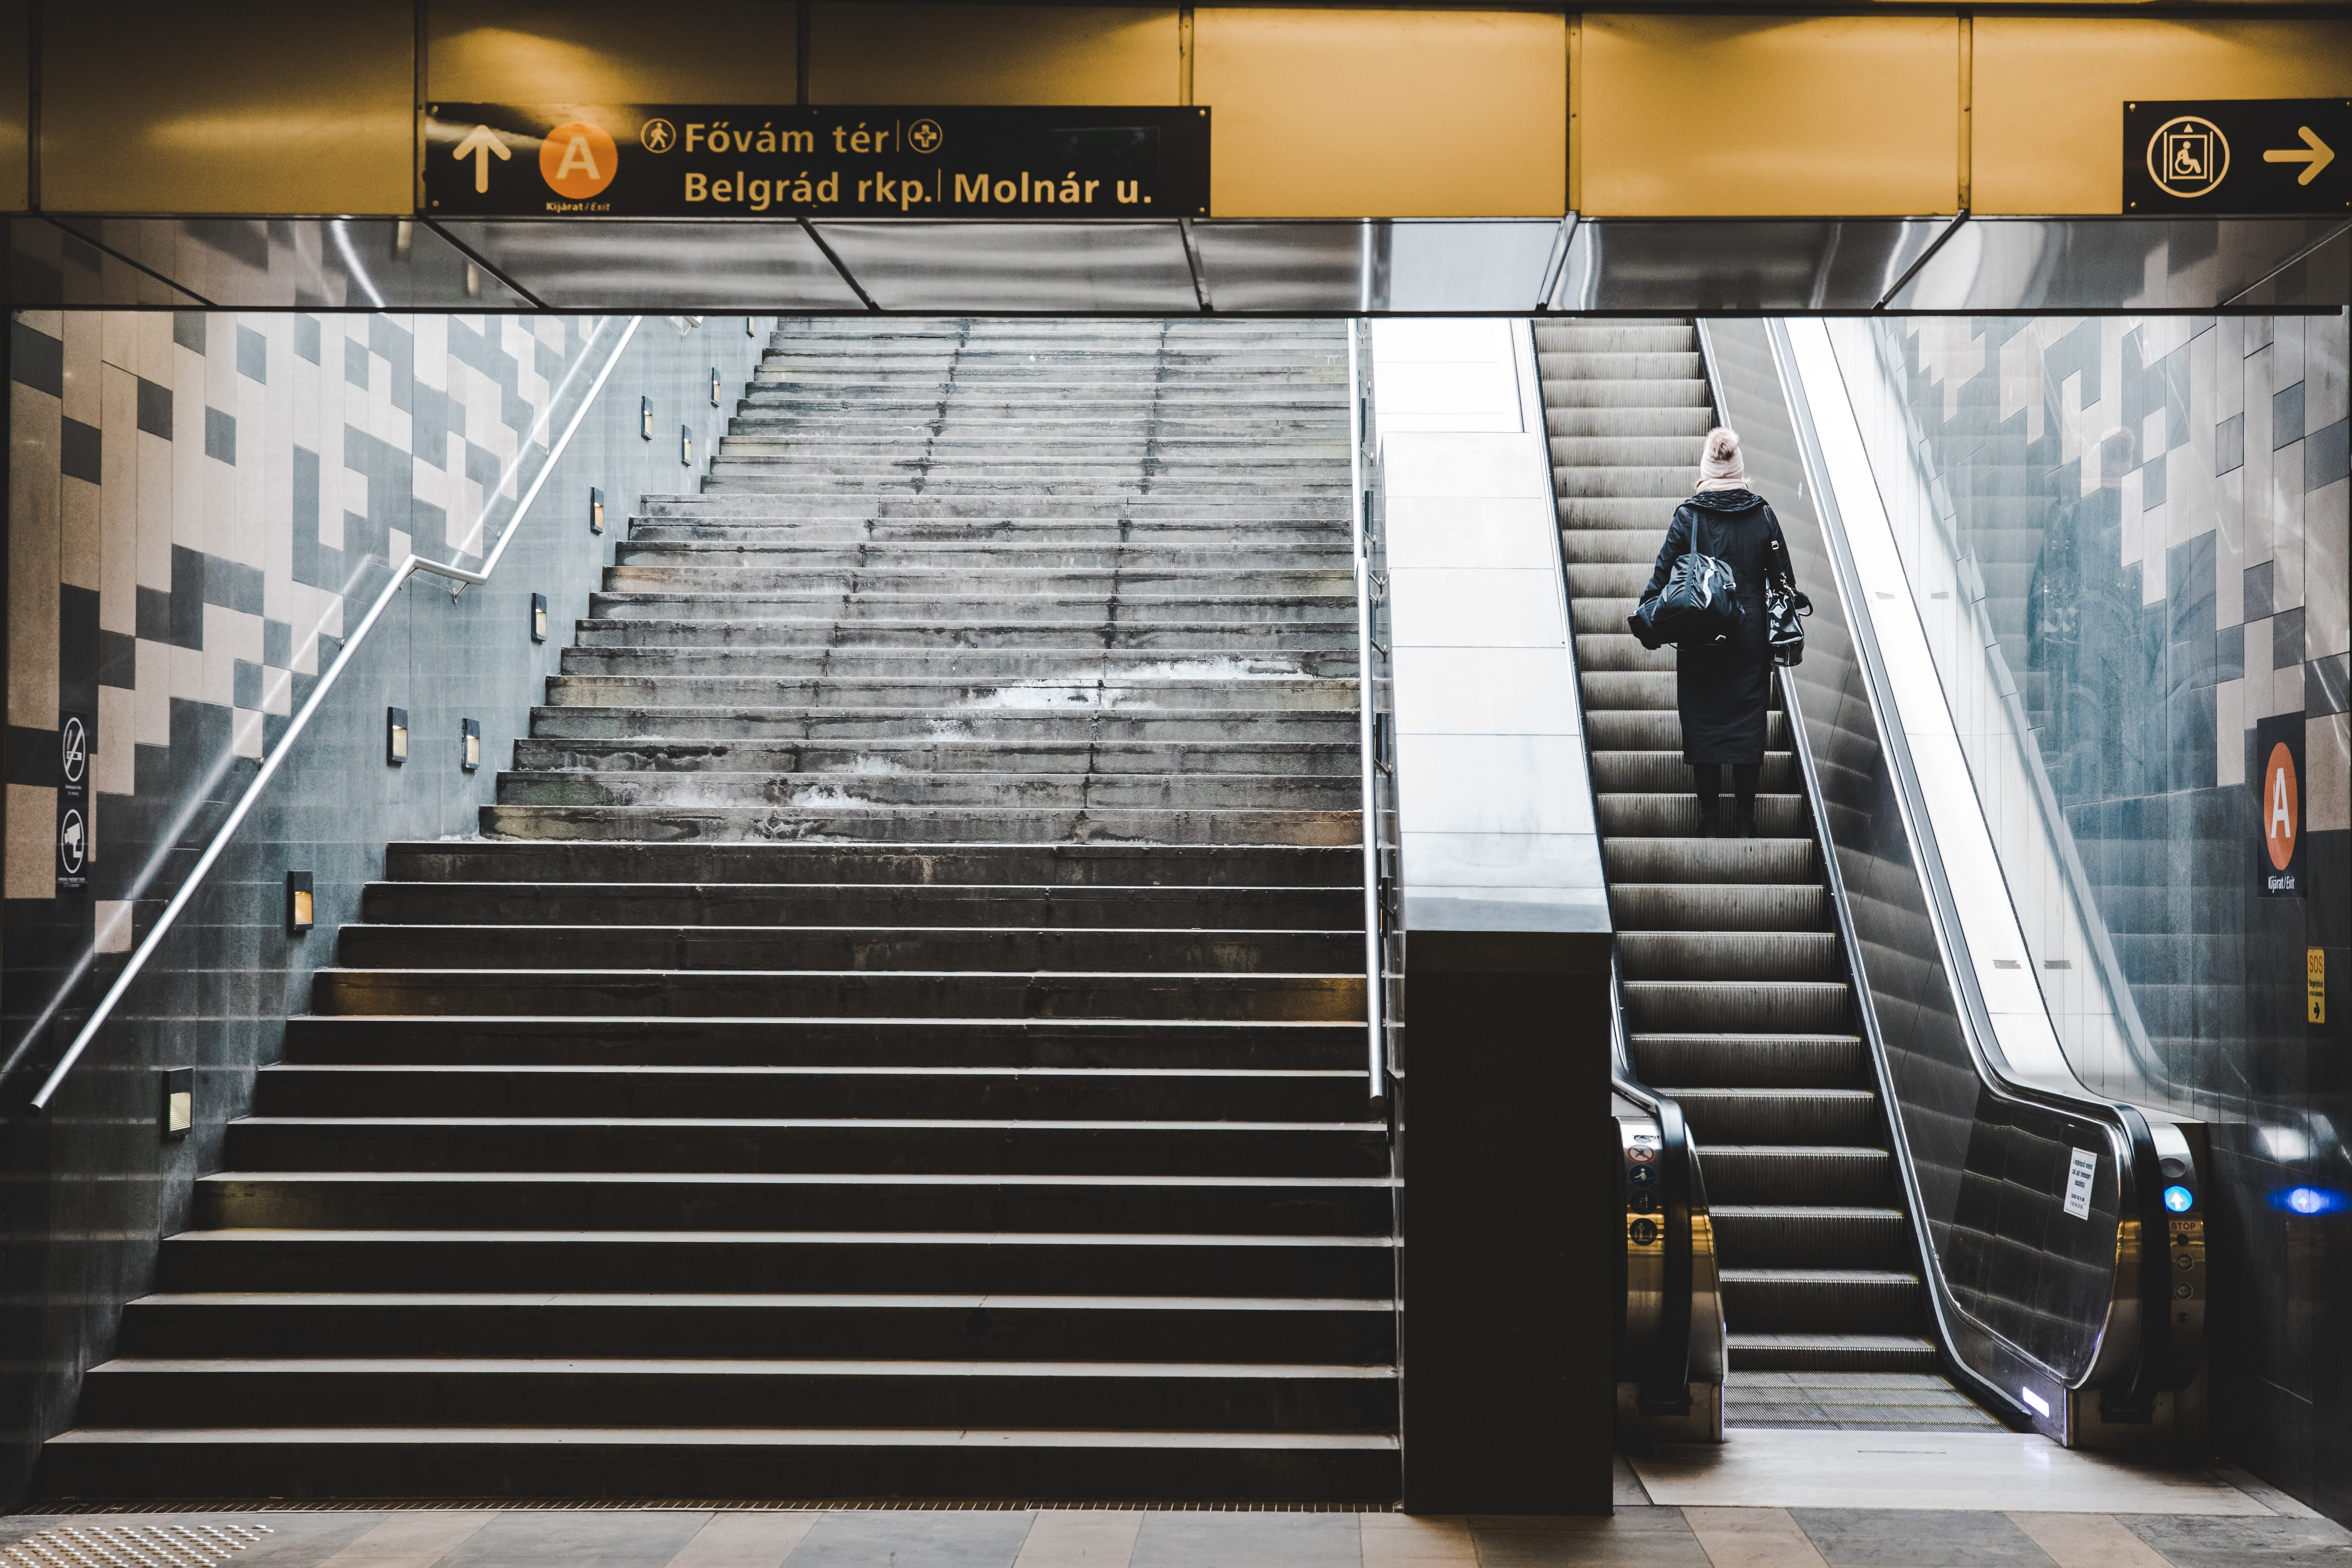upstairs: (555, 833, 1321, 1507)
